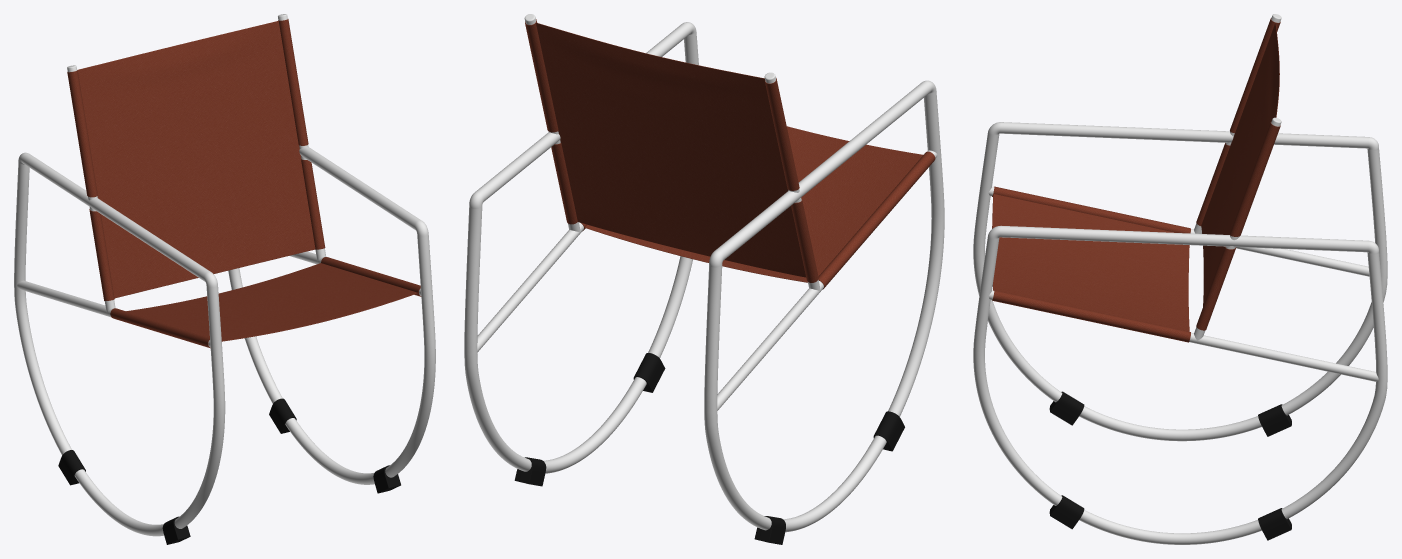
The model's file is silla-7.glb.
3 views of the same model, side by side, from view 1: azimuth 30°, elevation 25°; view 2: azimuth 150°, elevation 25°; view 3: azimuth 270°, elevation 25° (orthographic). The views are drawn at different scales.
Parts seen in each view (by area): view 1: Leather Seat, Metal Bars, Leather Straps, Plastic Feet; view 2: Leather Seat, Metal Bars, Leather Straps, Plastic Feet; view 3: Metal Bars, Leather Seat, Leather Straps, Plastic Feet.
Boxes of the visible parts, <box> form: Leather Seat: <box>77,21,417,341</box>; Metal Bars: <box>14,14,435,536</box>; Leather Straps: <box>67,19,421,348</box>; Plastic Feet: <box>58,398,400,544</box>; Leather Seat: <box>536,22,923,282</box>; Metal Bars: <box>464,14,944,532</box>; Leather Straps: <box>525,19,935,289</box>; Plastic Feet: <box>514,353,904,544</box>; Metal Bars: <box>973,14,1387,544</box>; Leather Seat: <box>992,22,1279,331</box>; Leather Straps: <box>992,18,1280,342</box>; Plastic Feet: <box>1049,391,1291,540</box>.
Size of the model in its own units: 0.511 by 0.9221 by 0.8135.
4 materials, 2 textured.
